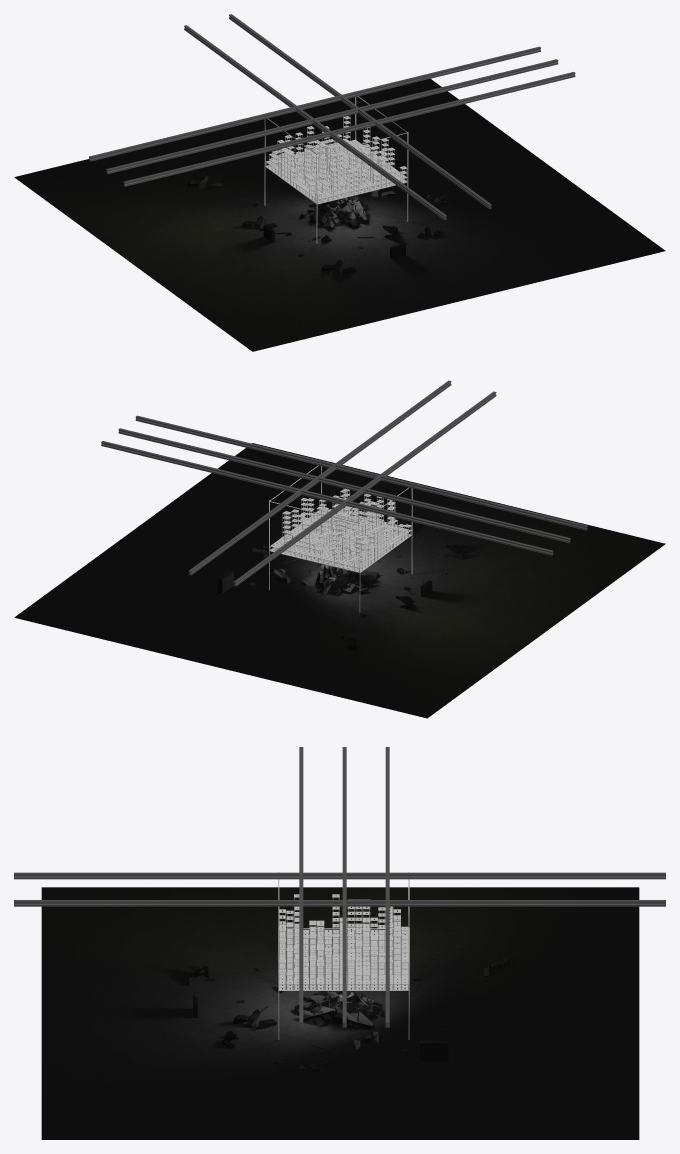
File: city.gltf
The picture shows the model from 3 angles, top to bottom: view 1: azimuth 30°, elevation 25°; view 2: azimuth 150°, elevation 25°; view 3: azimuth 270°, elevation 25°; orthographic projection. The views are drawn at different scales.
Visible parts, largest first — view 1: SOL, Cube, STRUCTURE, Cube.001, Cylinder.004, DEBRIS; view 2: SOL, Cube, STRUCTURE, Cube.001, Cylinder.004, DEBRIS; view 3: SOL, STRUCTURE, Cube.001, Cube, Cylinder.004, DEBRIS.
Boxes of the visible parts, bbox=[...] form: SOL: bbox=[14, 79, 665, 351]; Cube: bbox=[89, 46, 575, 186]; STRUCTURE: bbox=[264, 96, 408, 243]; Cube.001: bbox=[184, 14, 491, 219]; Cylinder.004: bbox=[187, 140, 486, 274]; DEBRIS: bbox=[301, 193, 369, 229]; SOL: bbox=[14, 443, 665, 718]; Cube: bbox=[101, 415, 587, 555]; STRUCTURE: bbox=[269, 465, 412, 612]; Cube.001: bbox=[188, 380, 496, 586]; Cylinder.004: bbox=[218, 521, 465, 650]; DEBRIS: bbox=[301, 563, 378, 596]; SOL: bbox=[41, 887, 639, 1139]; STRUCTURE: bbox=[278, 872, 409, 1039]; Cube.001: bbox=[14, 872, 665, 906]; Cube: bbox=[299, 747, 389, 1027]; Cylinder.004: bbox=[183, 951, 509, 1081]; DEBRIS: bbox=[294, 978, 385, 1029].
Bounding box in the file's own units: 178 × 42.15 × 178.
Materials: 5 (3 with a texture image).
